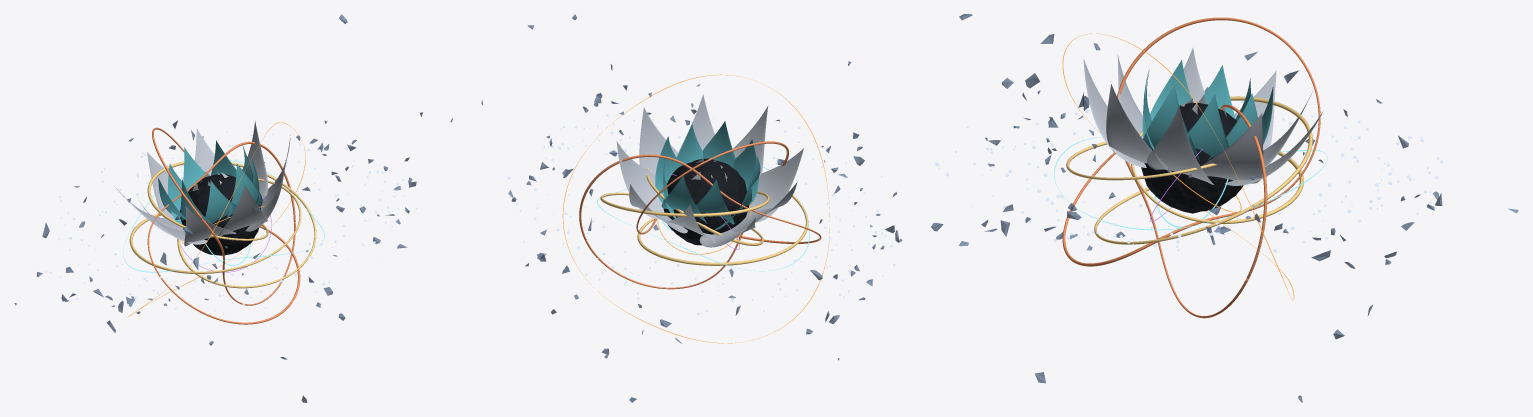
The picture shows the model from 3 angles, left to right: view 1: azimuth 30°, elevation 25°; view 2: azimuth 150°, elevation 25°; view 3: azimuth 270°, elevation 25°; orthographic projection. The views are drawn at different scales.
Visible parts, largest first — view 1: Knot.Gold, Singularity.Core, Knot.Copper, Petal.0.06, Dust.Belt, Petal.0.05, Petal.0.00, Petal.1.05, Petal.1.06, Petal.0.02, Petal.0.01, Petal.1.01 (+4 smaller); view 2: Singularity.Core, Knot.Copper, Knot.Gold, Petal.0.05, Petal.0.00, Petal.0.08, Dust.Belt, Petal.1.06, Petal.1.05, Filament.1, Petal.0.06, Petal.0.07 (+8 smaller); view 3: Singularity.Core, Knot.Copper, Knot.Gold, Petal.0.00, Petal.0.08, Petal.0.07, Petal.1.08, Dust.Belt, Petal.1.07, Petal.0.06, Petal.1.04, Petal.0.05 (+6 smaller).
Boxes of the visible parts, x1,y1,x2,y2 form: Knot.Gold: [129, 160, 316, 288]; Singularity.Core: [179, 174, 260, 255]; Knot.Copper: [147, 127, 300, 324]; Petal.0.06: [217, 185, 267, 236]; Dust.Belt: [44, 130, 417, 314]; Petal.0.05: [184, 206, 236, 246]; Petal.0.00: [242, 121, 267, 198]; Petal.1.05: [204, 180, 236, 223]; Petal.1.06: [226, 163, 262, 221]; Petal.0.02: [147, 152, 175, 221]; Petal.0.01: [195, 128, 214, 175]; Petal.1.01: [183, 147, 205, 187]; Singularity.Core: [663, 158, 748, 245]; Knot.Copper: [579, 141, 821, 289]; Knot.Gold: [600, 168, 808, 265]; Petal.0.05: [749, 148, 803, 222]; Petal.0.00: [616, 141, 664, 219]; Petal.0.08: [639, 107, 678, 175]; Dust.Belt: [507, 114, 896, 315]; Petal.1.06: [702, 121, 735, 167]; Petal.1.05: [733, 139, 758, 205]; Filament.1: [562, 74, 829, 343]; Petal.0.06: [733, 106, 767, 176]; Petal.0.07: [678, 94, 714, 153]; Singularity.Core: [1141, 102, 1243, 213]; Knot.Copper: [1062, 17, 1320, 318]; Knot.Gold: [1066, 96, 1312, 244]; Petal.0.00: [1188, 113, 1263, 183]; Petal.0.08: [1147, 105, 1213, 184]; Petal.0.07: [1106, 84, 1171, 172]; Petal.1.08: [1186, 93, 1228, 157]; Dust.Belt: [935, 93, 1443, 252]; Petal.1.07: [1143, 85, 1199, 160]; Petal.0.06: [1083, 59, 1146, 167]; Petal.1.04: [1150, 60, 1193, 120]; Petal.0.05: [1117, 54, 1142, 138].
Bounding box in the file's own units: 10.62 × 8.61 × 10.74.
